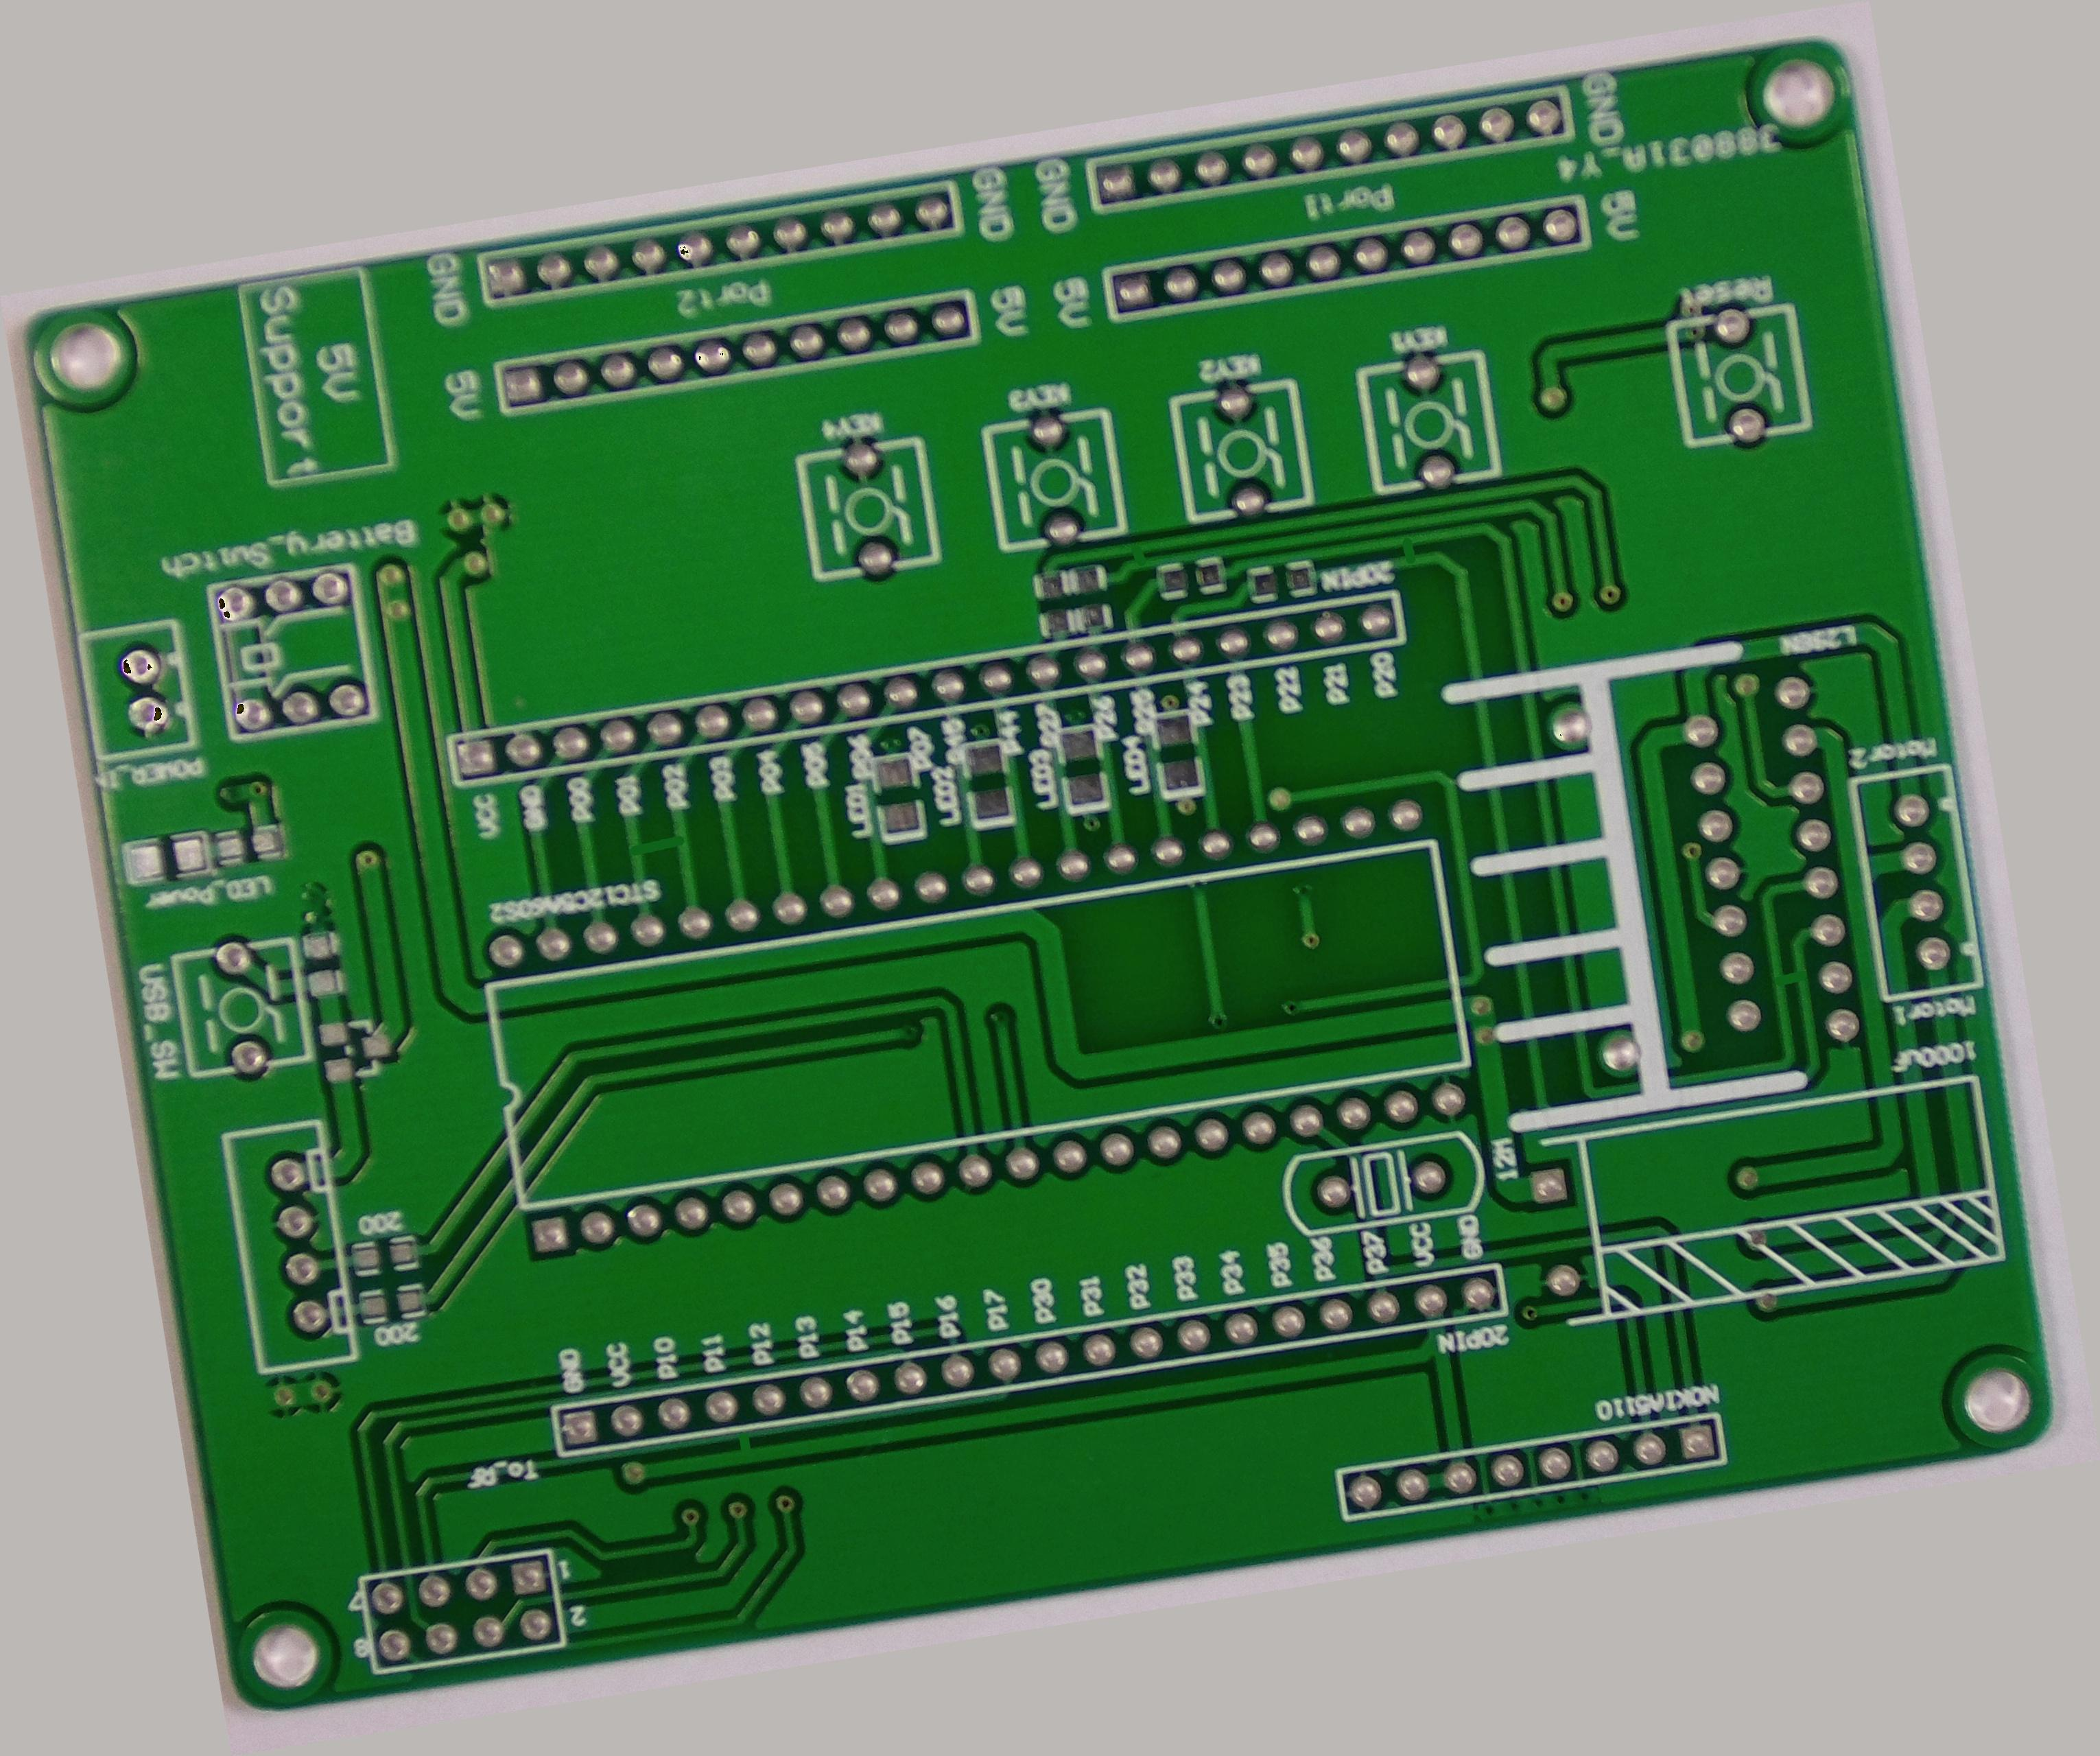short: (621, 820, 699, 872), (720, 1416, 774, 1474), (1376, 528, 1434, 581), (1760, 950, 1817, 1003), (1113, 534, 1162, 581)
